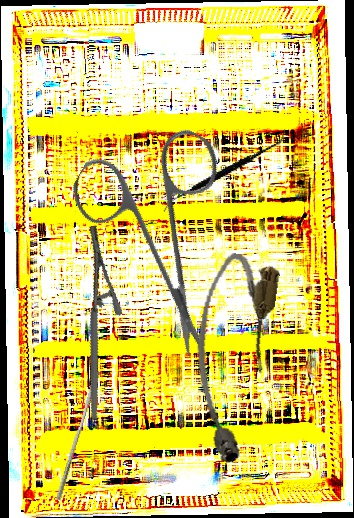Cannula: (180, 249, 282, 467)
Iris Scissors: (28, 93, 292, 361)
Needle Holder: (29, 222, 157, 421)
Pusher: (55, 369, 101, 503)
Spatula Surgical: (161, 95, 288, 246)
